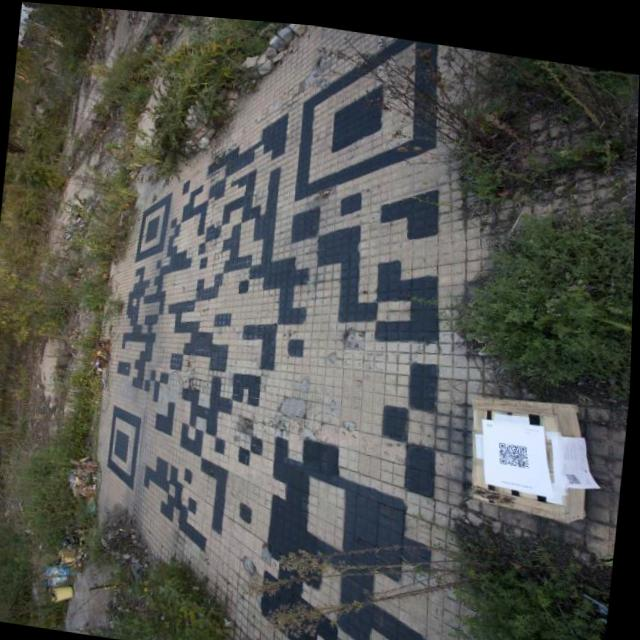qrcode: (94, 8, 487, 640), (501, 433, 534, 458), (568, 464, 586, 475)
